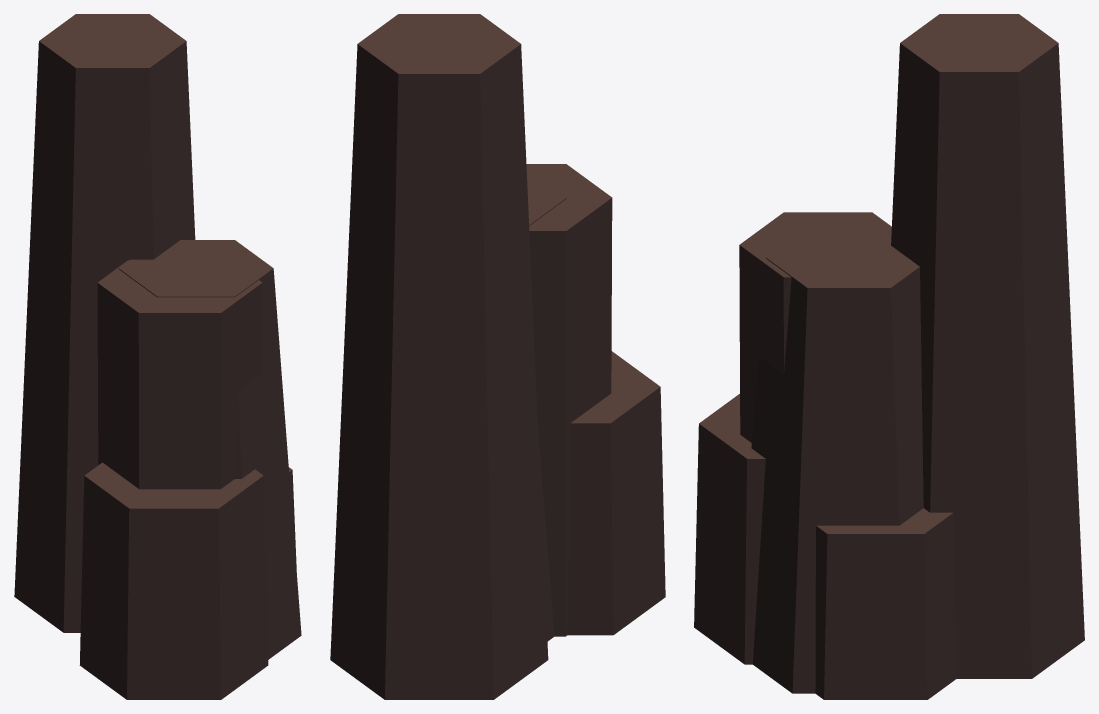
Rendered from Crater_Basalt2.fbx.
3 views of the same model, side by side, from view 1: azimuth 30°, elevation 25°; view 2: azimuth 150°, elevation 25°; view 3: azimuth 270°, elevation 25° (orthographic). The views are drawn at different scales.
Visible parts, largest first — view 1: Crater_Basalt2; view 2: Crater_Basalt2; view 3: Crater_Basalt2.
Boxes of the visible parts, <box> form: Crater_Basalt2: <box>14,14,301,699</box>; Crater_Basalt2: <box>330,14,665,699</box>; Crater_Basalt2: <box>694,14,1084,699</box>.
Size of the model in its own units: 1.02 by 2.58 by 1.53.
